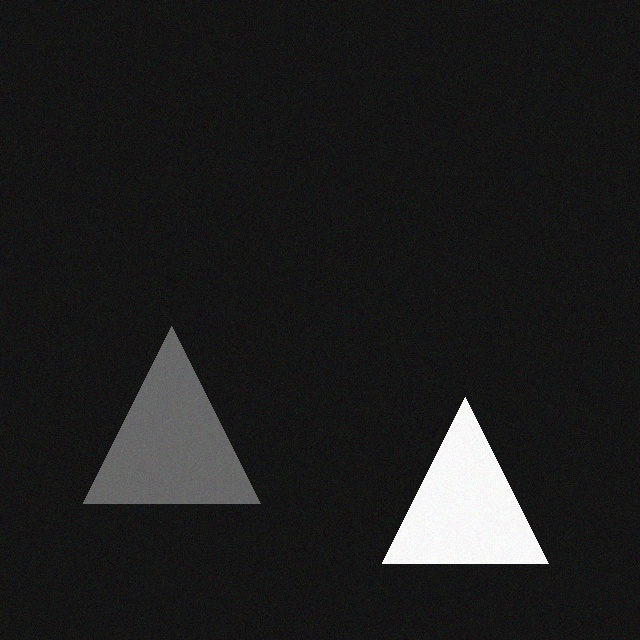triangle: (70, 321, 247, 498), (369, 392, 535, 558)
